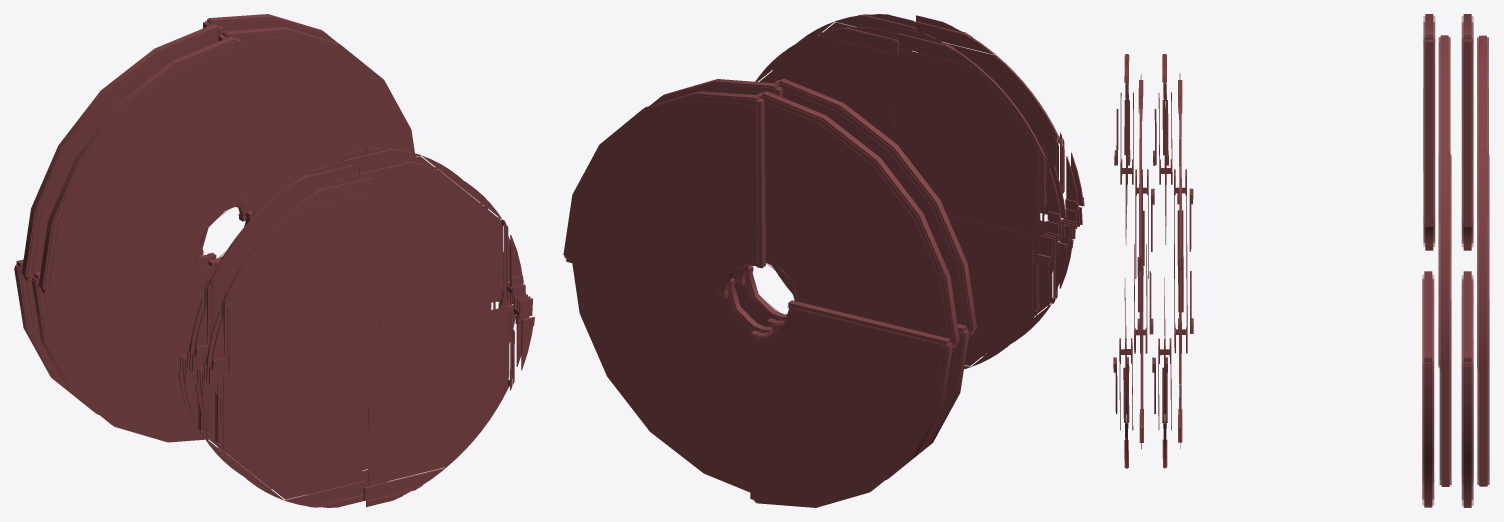
The model's file is MCH.glb.
3 renders of one model, left to right at view 1: azimuth 30°, elevation 25°; view 2: azimuth 150°, elevation 25°; view 3: azimuth 270°, elevation 25°, orthographic. The views are drawn at different scales.
Parts seen in each view (by area): view 1: Segment_1_EERB_2_2.001, Segment_1_EERB_1_3.001, Segment_1_EERB_1_2, SA1C_2_2.001, SA1C_2_3, SA1C_1_3.001, SA1C_1_2, Epoxy_3_1_2.001, Epoxy_3_1_2.003, Segment_1_EERB_2_2.003, SA1C_4_3, SA1C_4_2.001 (+19 smaller); view 2: Segment_1_EERB_2_3.003, Segment_1_EERB_2_2.002, Segment_1_EERB_1_2.003, Segment_1_EERB_1_3.002, SA1C_3_2.001, SA1C_4_3.001, SA1C_4_2, Epoxy_3_1_2.001, Epoxy_3_1_2.003, Segment_1_EERB_1_2.001, SA1C_1_2.001, Epoxy_3_1_3.003 (+20 smaller); view 3: Epoxy_3_1_2, Epoxy_3_1_2.002, Epoxy_5_1_2.003, Epoxy_5_1_2.001, Epoxy_3_1_3.002, Epoxy_3_1_3, Epoxy_5_1_3.001, Epoxy_5_1_3.003, Rib_3_1_2, Epoxy_1_1_3, Epoxy_1_1_3.002, Rib_3_1_2.002 (+5 smaller).
Boxes of the visible parts, bbox=[...] form: Segment_1_EERB_2_2.001: bbox=[49, 46, 235, 286]; Segment_1_EERB_1_3.001: bbox=[44, 257, 212, 436]; Segment_1_EERB_1_2: bbox=[241, 37, 409, 209]; SA1C_2_2.001: bbox=[228, 193, 368, 372]; SA1C_2_3: bbox=[368, 306, 508, 485]; SA1C_1_3.001: bbox=[222, 348, 361, 499]; SA1C_1_2: bbox=[362, 170, 501, 326]; Epoxy_3_1_2.001: bbox=[38, 36, 234, 288]; Epoxy_3_1_2.003: bbox=[21, 24, 217, 275]; Segment_1_EERB_2_2.003: bbox=[32, 34, 218, 274]; SA1C_4_3: bbox=[351, 303, 491, 470]; SA1C_4_2.001: bbox=[212, 186, 350, 356]; Segment_1_EERB_2_3.003: bbox=[755, 310, 942, 501]; Segment_1_EERB_2_2.002: bbox=[569, 101, 755, 292]; Segment_1_EERB_1_2.003: bbox=[764, 102, 948, 338]; Segment_1_EERB_1_3.002: bbox=[578, 264, 752, 486]; SA1C_3_2.001: bbox=[900, 49, 1040, 229]; SA1C_4_3.001: bbox=[946, 214, 1033, 365]; SA1C_4_2: bbox=[759, 35, 893, 141]; Epoxy_3_1_2.001: bbox=[780, 78, 976, 330]; Epoxy_3_1_2.003: bbox=[763, 91, 959, 343]; Segment_1_EERB_1_2.001: bbox=[783, 90, 965, 325]; SA1C_1_2.001: bbox=[918, 43, 1057, 214]; Epoxy_3_1_3.003: bbox=[756, 345, 952, 507]; Epoxy_3_1_2: bbox=[1440, 35, 1448, 366]; Epoxy_3_1_2.002: bbox=[1479, 35, 1487, 367]; Epoxy_5_1_2.003: bbox=[1463, 39, 1471, 226]; Epoxy_5_1_2.001: bbox=[1425, 39, 1433, 226]; Epoxy_3_1_3.002: bbox=[1463, 365, 1471, 507]; Epoxy_3_1_3: bbox=[1424, 366, 1432, 507]; Epoxy_5_1_3.001: bbox=[1441, 365, 1449, 486]; Epoxy_5_1_3.003: bbox=[1479, 368, 1487, 486]; Rib_3_1_2: bbox=[1438, 37, 1440, 365]; Epoxy_1_1_3: bbox=[1424, 271, 1432, 362]; Epoxy_1_1_3.002: bbox=[1463, 271, 1471, 362]; Rib_3_1_2.002: bbox=[1477, 37, 1478, 366].
Size of the model in its own units: 246 by 247 by 186.
